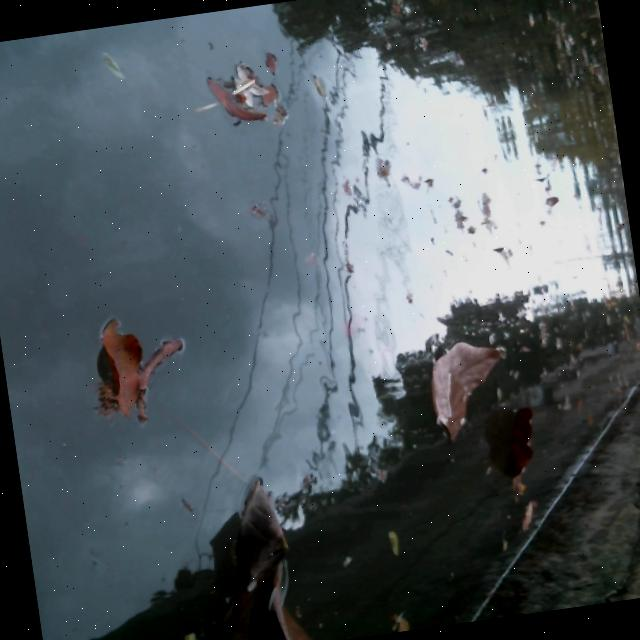Big-leaf: (45, 290, 220, 454), (206, 479, 328, 640), (396, 310, 539, 446), (489, 399, 552, 491)
Small-leaf: (194, 61, 272, 138), (366, 517, 416, 576), (515, 492, 559, 537), (364, 610, 423, 637), (157, 611, 199, 640)
